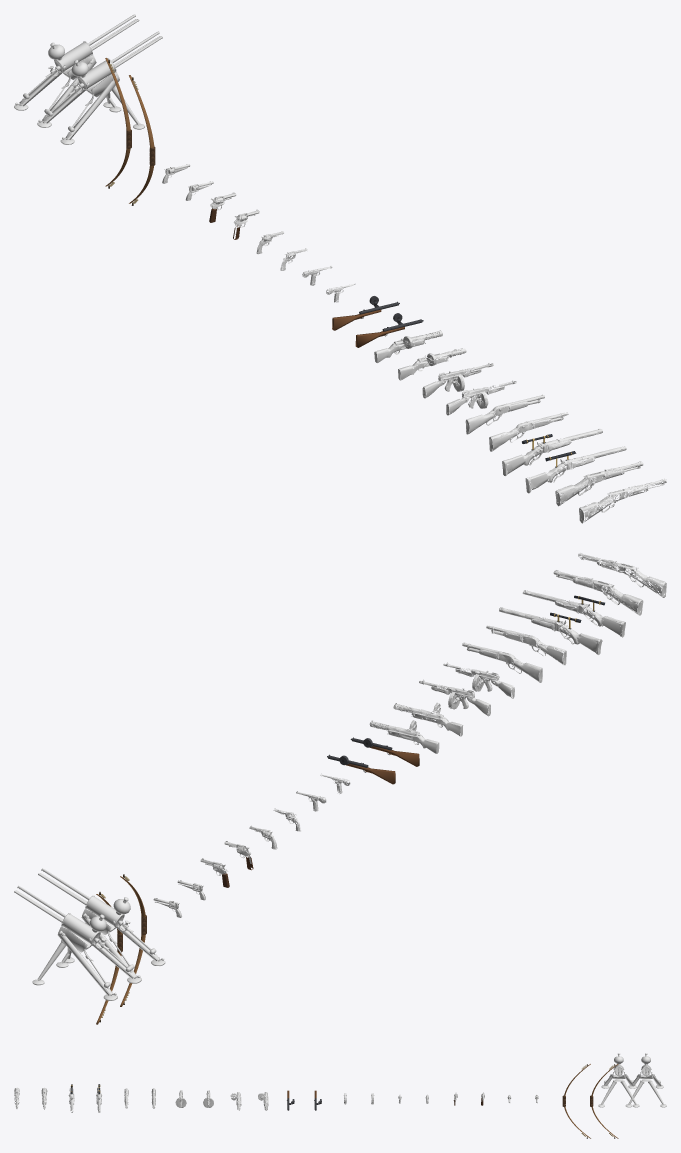
Rendered from rack_guns.glb.
The picture shows the model from 3 angles, top to bottom: view 1: azimuth 30°, elevation 25°; view 2: azimuth 150°, elevation 25°; view 3: azimuth 270°, elevation 25°; orthographic projection. The views are drawn at different scales.
Visible parts, largest first — view 1: Rack_gatling, Near_gatling, Near_sharps, Rack_sharps, Near_winchester, Rack_winchester, Near_tommy, Near_coach, Rack_coach, Rack_tommy; view 2: Near_gatling, Rack_gatling, Near_sharps, Rack_sharps, Near_winchester, Rack_winchester, Near_coach, Rack_coach, Near_tommy, Rack_tommy, Near_mp18, Rack_mp18; view 3: Rack_gatling, Near_gatling, Rack_longbow, Near_longbow.
Part boxes in pixels (<box>): Rack_gatling: <box>38,31,162,144</box>; Near_gatling: <box>14,14,139,126</box>; Near_sharps: <box>502,428,602,476</box>; Rack_sharps: <box>525,446,626,493</box>; Near_winchester: <box>555,461,643,506</box>; Rack_winchester: <box>579,478,666,523</box>; Near_tommy: <box>422,363,493,398</box>; Near_coach: <box>465,394,544,434</box>; Rack_coach: <box>489,412,568,451</box>; Rack_tommy: <box>446,380,516,415</box>; Near_gatling: <box>14,885,141,1000</box>; Rack_gatling: <box>38,868,165,981</box>; Near_sharps: <box>499,607,602,654</box>; Rack_sharps: <box>522,590,625,637</box>; Near_winchester: <box>553,570,643,615</box>; Rack_winchester: <box>578,552,666,597</box>; Near_coach: <box>462,642,542,682</box>; Rack_coach: <box>486,625,566,665</box>; Near_tommy: <box>419,679,490,716</box>; Rack_tommy: <box>443,662,514,698</box>; Near_mp18: <box>369,720,439,753</box>; Rack_mp18: <box>393,702,463,736</box>; Rack_gatling: <box>598,1053,639,1107</box>; Near_gatling: <box>625,1053,666,1107</box>; Rack_longbow: <box>562,1064,590,1138</box>; Near_longbow: <box>590,1064,618,1138</box>.
Size of the model in its own units: 1.35 by 1.65 by 11.93.
